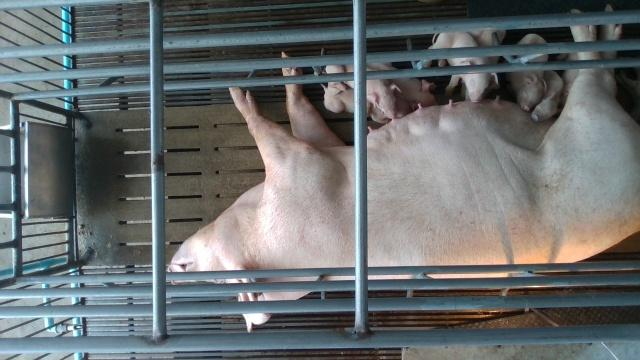piglet: (428, 30, 498, 102), (328, 62, 403, 121), (366, 58, 438, 112), (510, 32, 548, 112), (321, 82, 389, 125), (532, 68, 563, 122)
sow-sleep-lactate: (170, 25, 639, 333)
